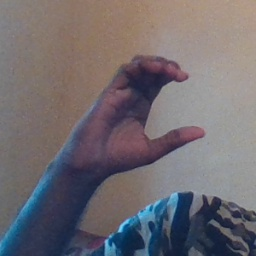C: (122, 51, 212, 163)
